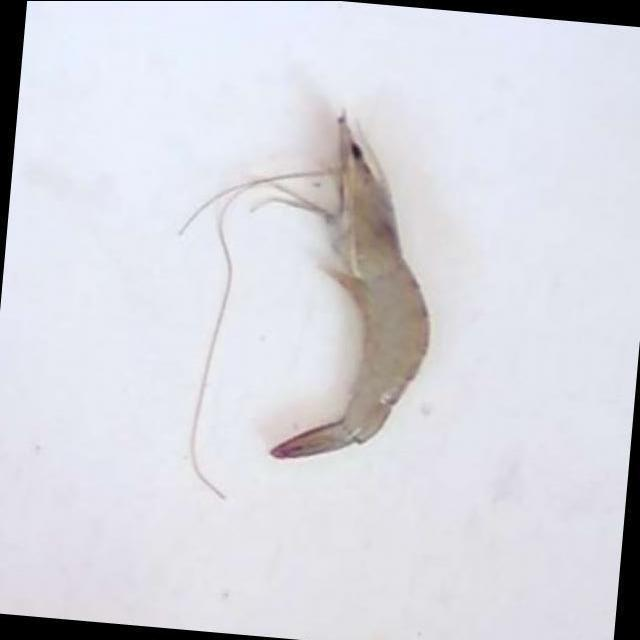shrimp: (271, 115, 428, 458)
